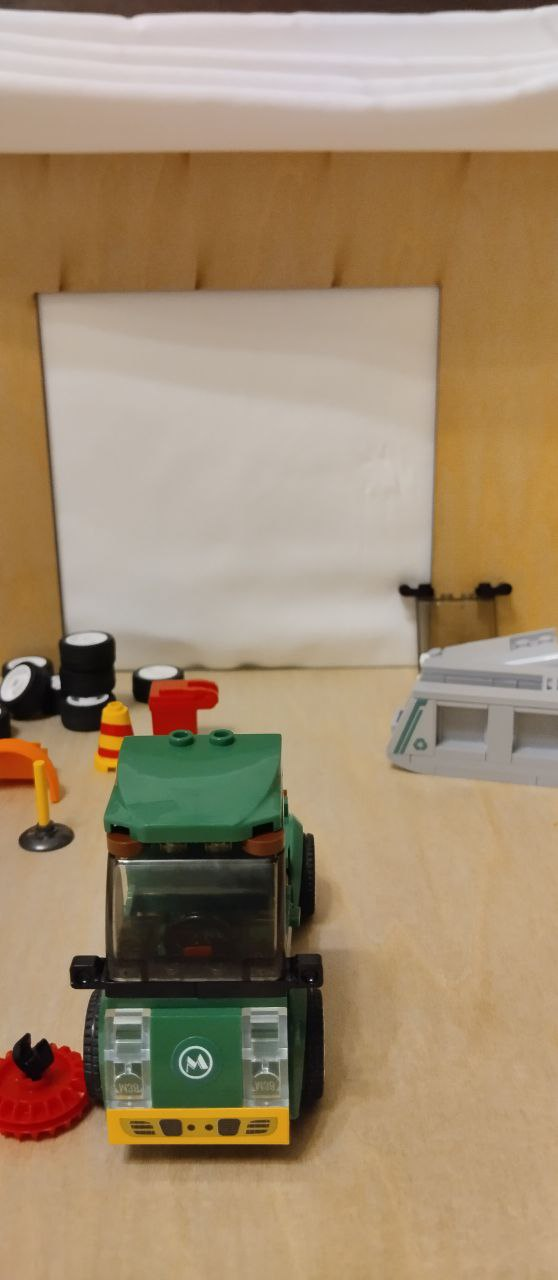Cone: (93, 698, 139, 774)
Object Red: (144, 677, 227, 748)
Truck: (63, 722, 335, 1152)
